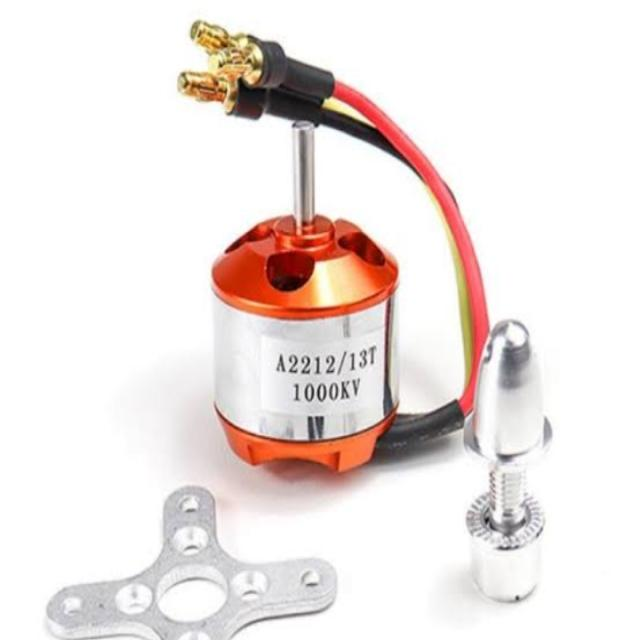motor: (211, 117, 406, 471)
